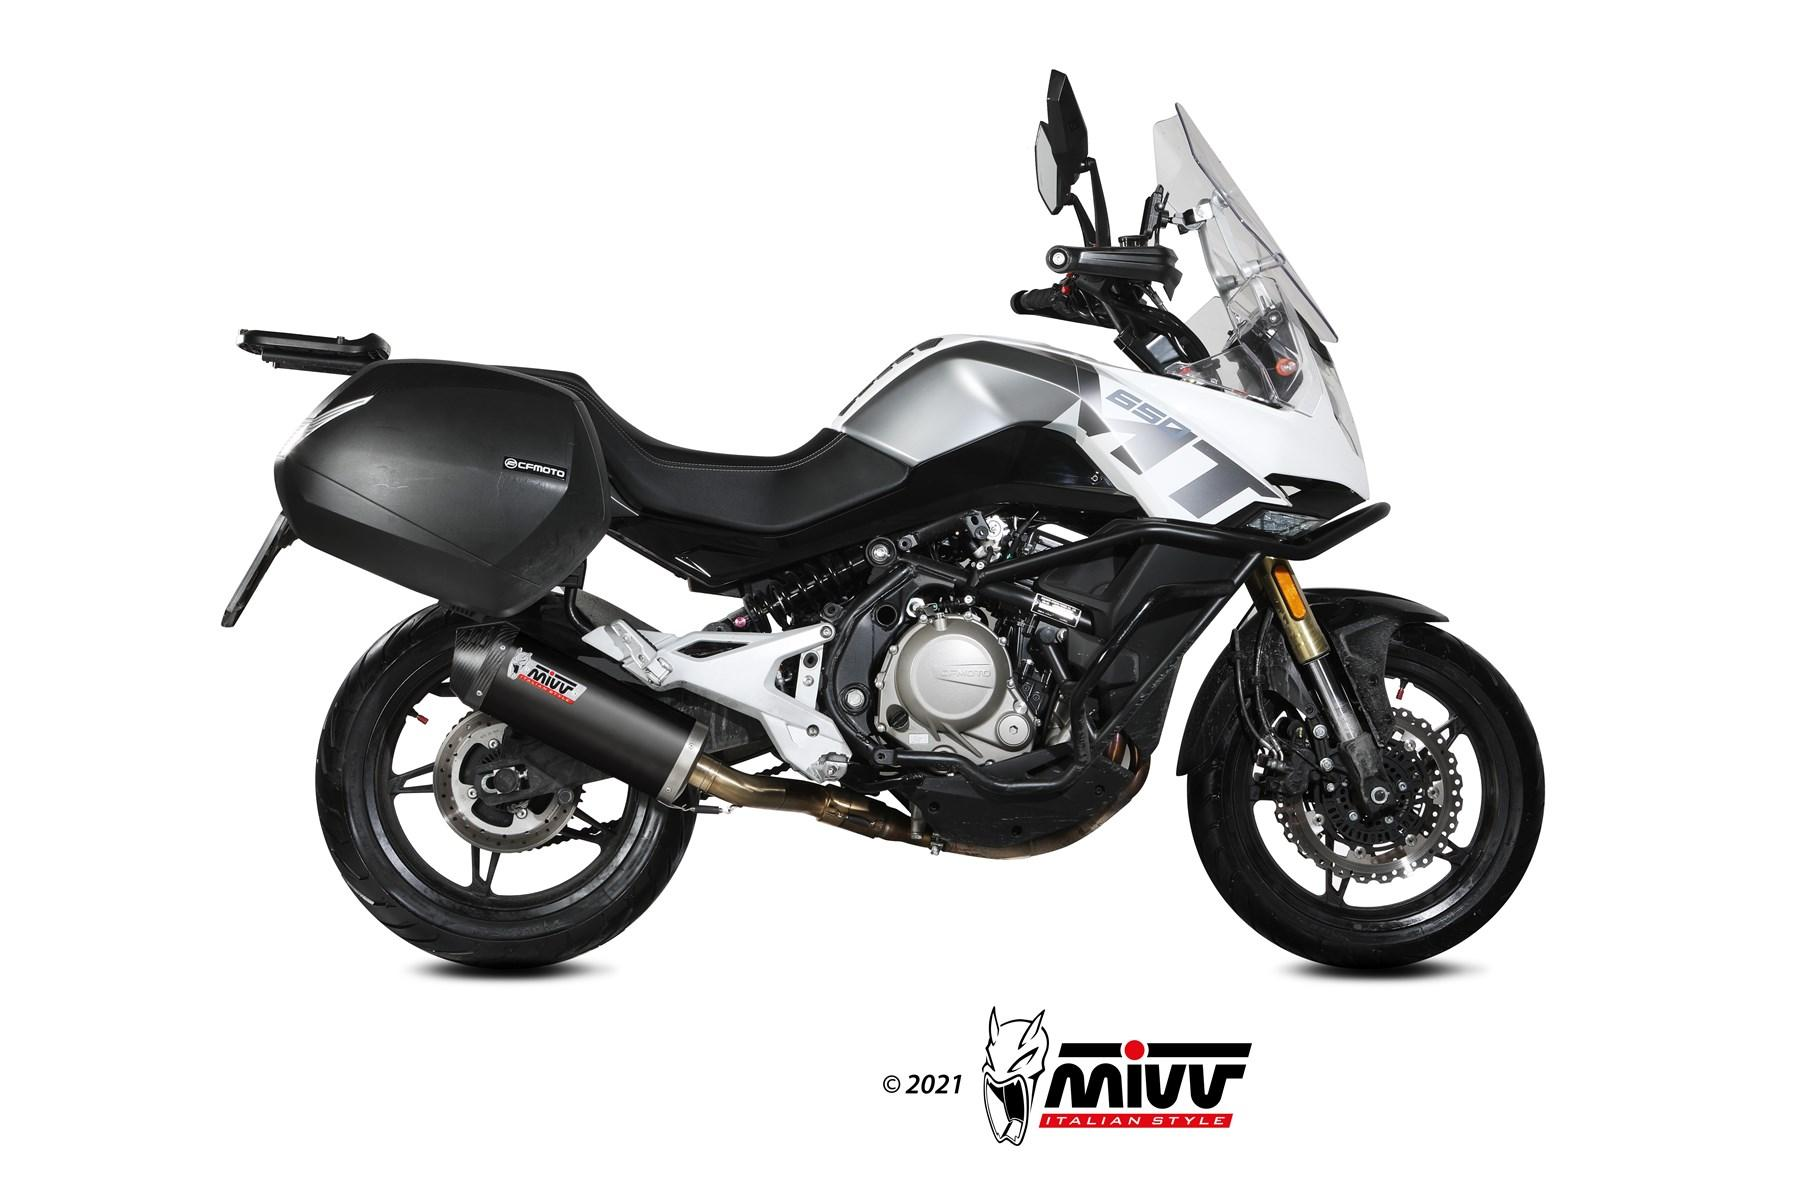engine-chasis: (636, 501, 1267, 846), (700, 544, 875, 632)
frontside: (964, 102, 1450, 820)
handlebar: (1010, 68, 1215, 363), (1221, 329, 1239, 352)
motorbike: (449, 619, 1150, 861)
rearside: (220, 328, 1148, 766), (473, 739, 613, 808)
seat: (493, 364, 911, 533)
tank: (829, 333, 1079, 473)
watermark: (867, 998, 1260, 1161)
wheel: (315, 601, 698, 971), (1185, 623, 1546, 970), (1229, 603, 1284, 762), (534, 816, 623, 850), (762, 762, 792, 775)
